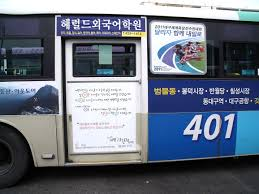out: (47, 13, 167, 169)
